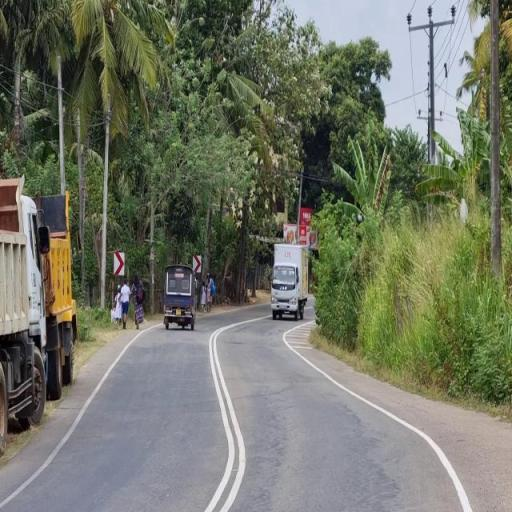double_white_line: (284, 322, 466, 510), (206, 322, 254, 511)
